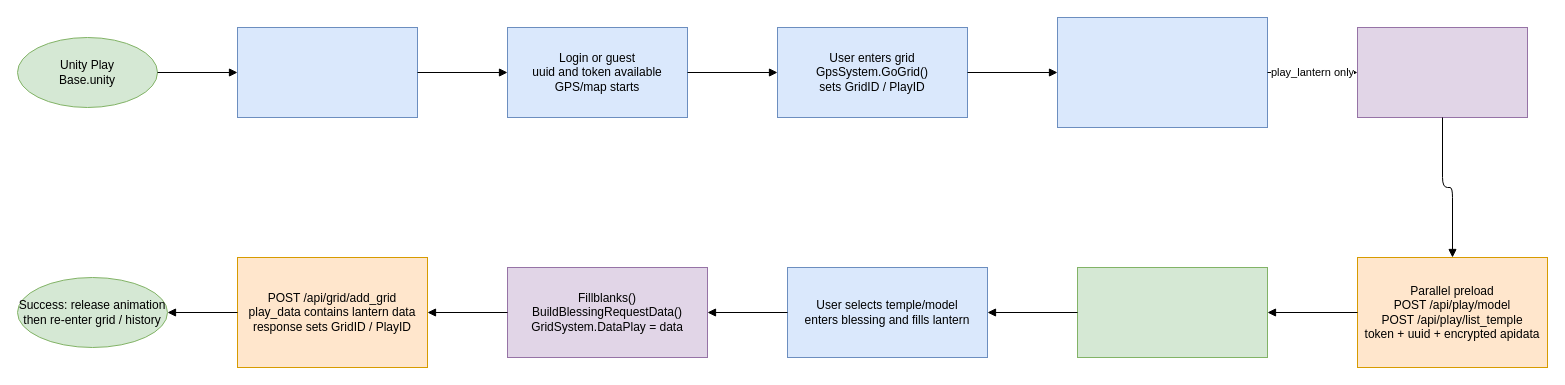
Some shapes in this 1565 by 385 pixel diagram are drawn without their labels. Each missing label, with the centre of its shape:
"GridSystem.Init() existing grid: POST /api/grid new grid: activates play mode" goes at point (1162, 72).
"Map data to lists JArray -> LanternData JArray -> TempleData" goes at point (1172, 312).
"play_lantern activated LanternSystem.Awake" goes at point (1442, 72).
"ServerSystem.Awake Env.LoadEnv() server/version checks" goes at point (327, 72).
